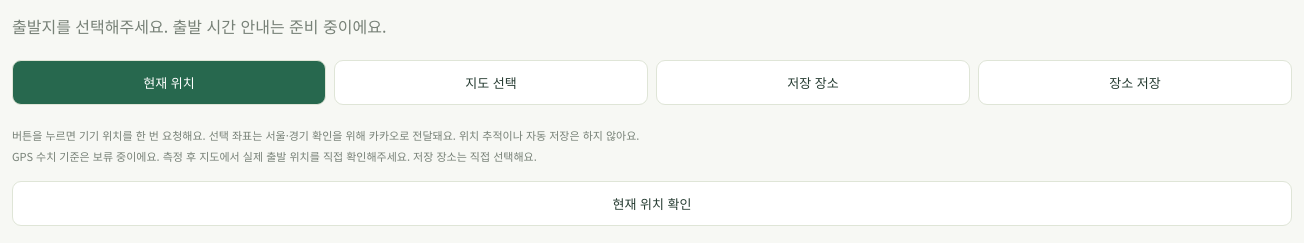
rechecks login before obtaining any GPS and removes private list on expiry
Click the button "현재 위치 확인": click(652, 203) [12, 181, 1292, 226]
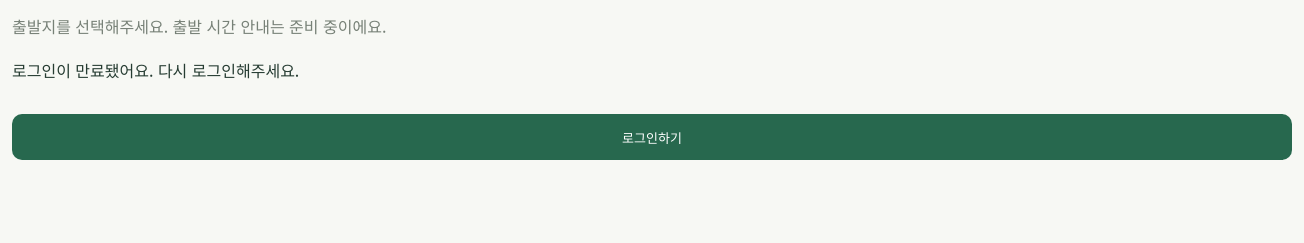
expect the button "로그인하기" is shown: met, box [12, 114, 1292, 160]
